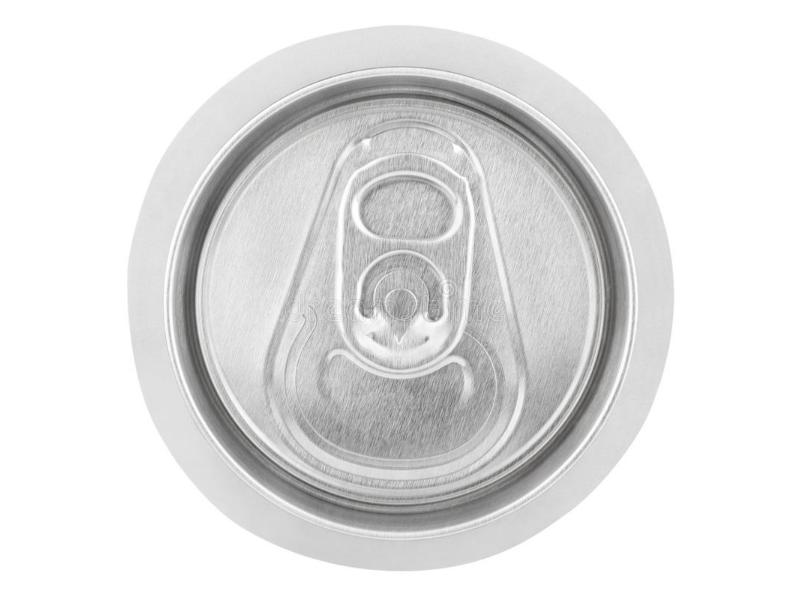can: (117, 14, 686, 581)
